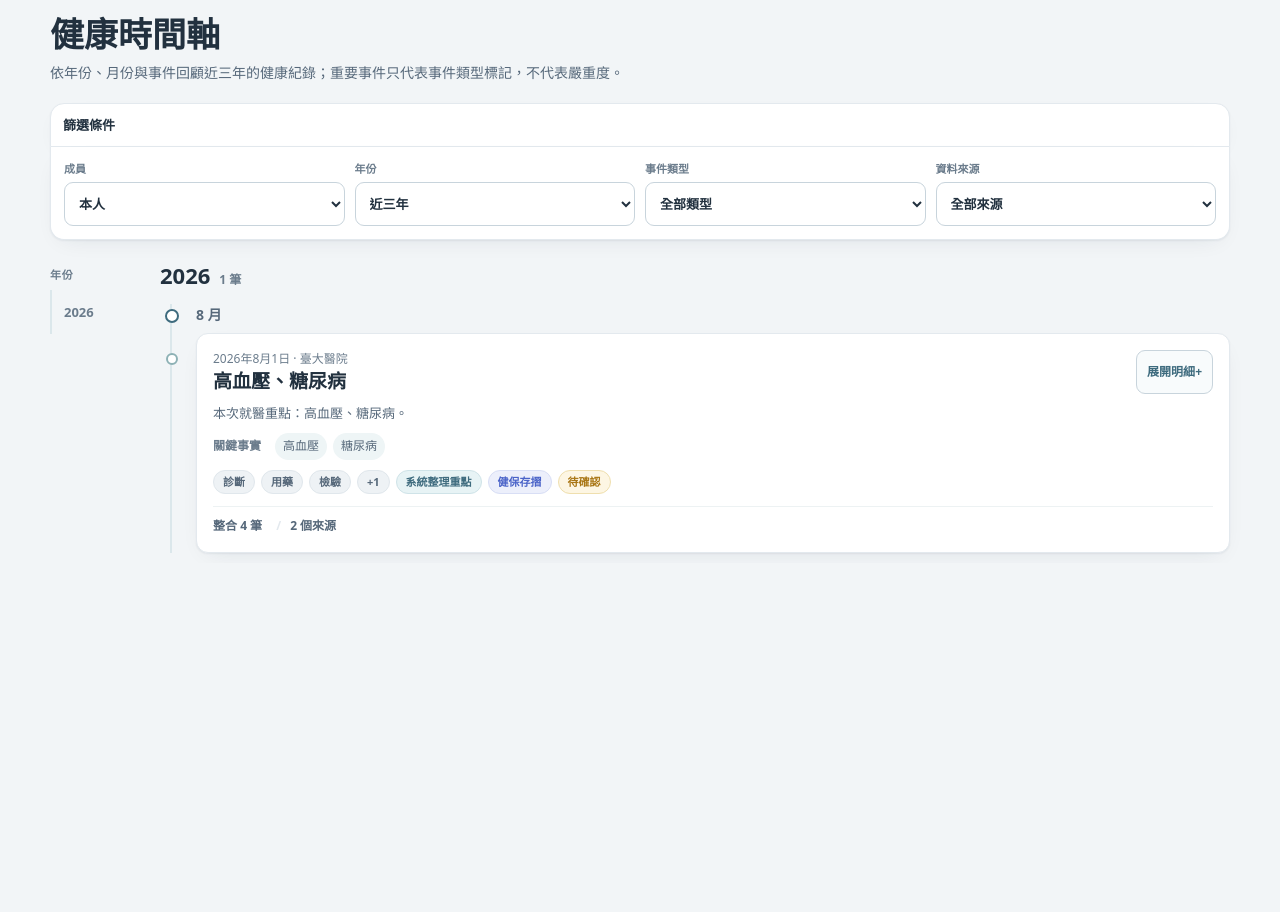
Test case: HealthTimelinePage member and mobile year behavior › keeps the encounter summary visible and offers a retry when details fail
This screenshot has width=1280, height=912.
What coordinates should you click on to do the following:
click the button with aria-label "展開 高血壓、糖尿病的明細"
I would click on:
 (1175, 372)
Its box is [1136,350,1213,394].
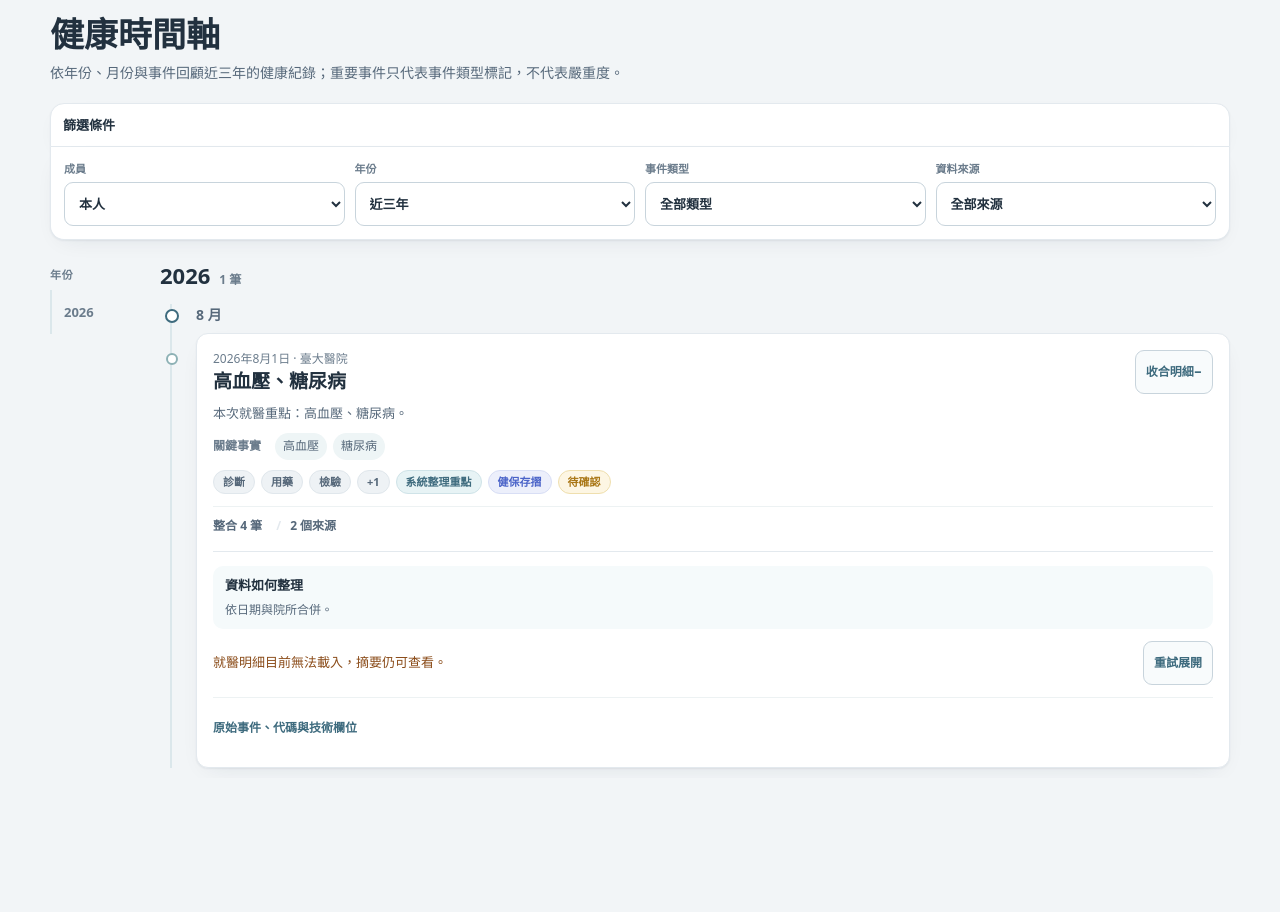
Expected: the text "本次就醫重點：高血壓、糖尿病。" is shown, [213,404,408,422]
Result: the message shows "摘要仍可查看" at [213,653,447,671]
What coordinates should you click on to do the following:
click the button "重試展開"
I would click on:
 (1178, 663)
Its box is [1143,641,1213,685].
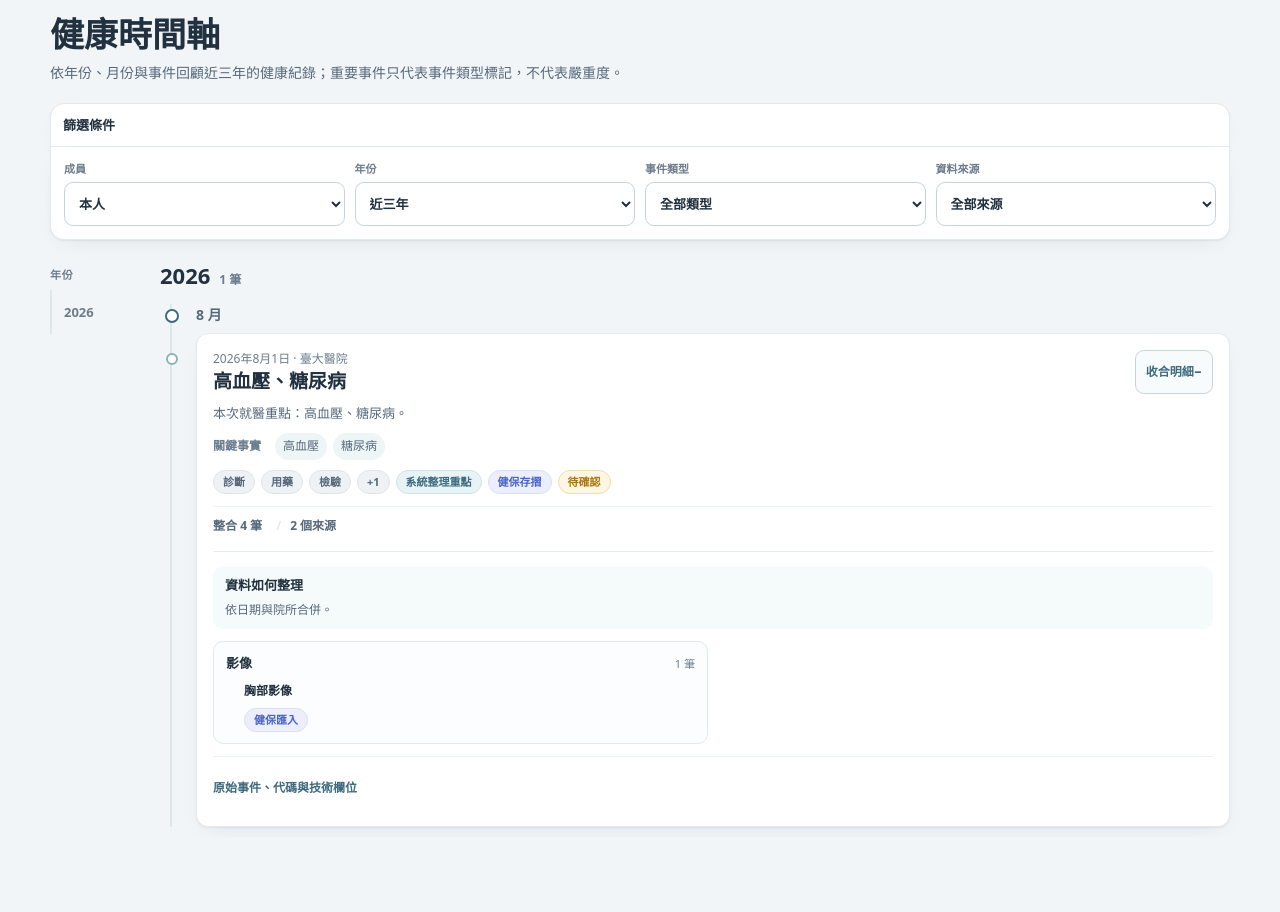
Result: the heading "影像" is shown at [226,653,252,673]
